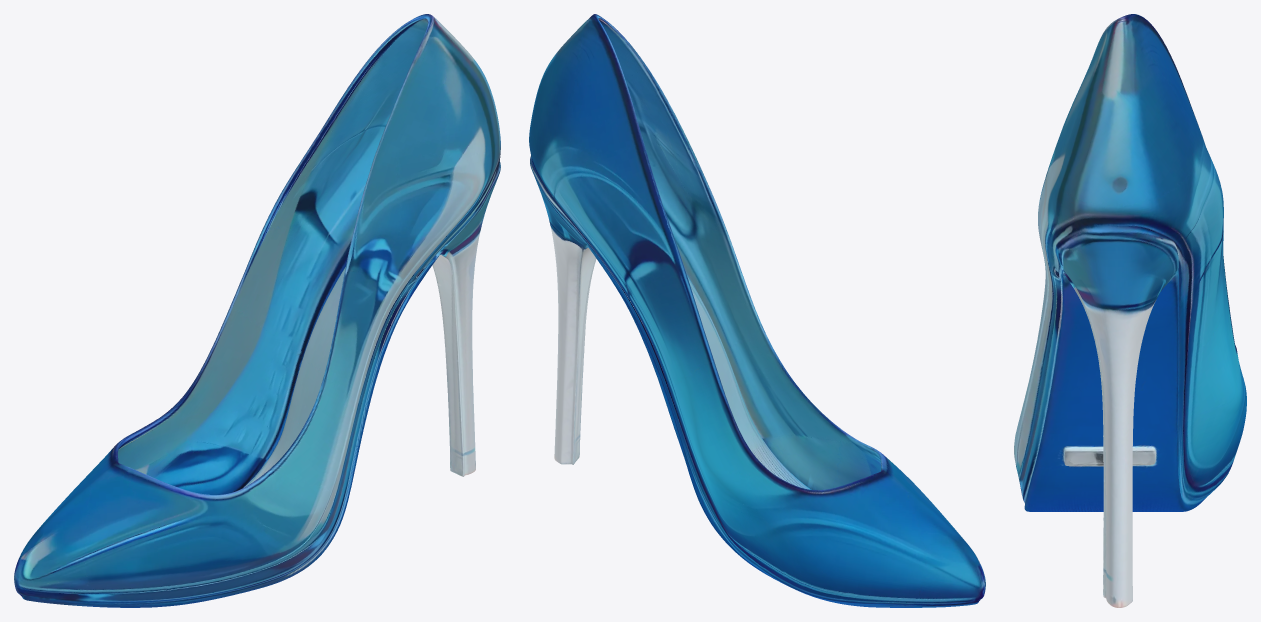
The model's file is Scarpa col tacco.glb.
3 renders of one model, left to right at view 1: azimuth 30°, elevation 25°; view 2: azimuth 150°, elevation 25°; view 3: azimuth 270°, elevation 25°, orthographic. The views are drawn at different scales.
Size of the model in its own units: 1.84 by 1.9 by 0.6498.
1 material, 1 textured.
